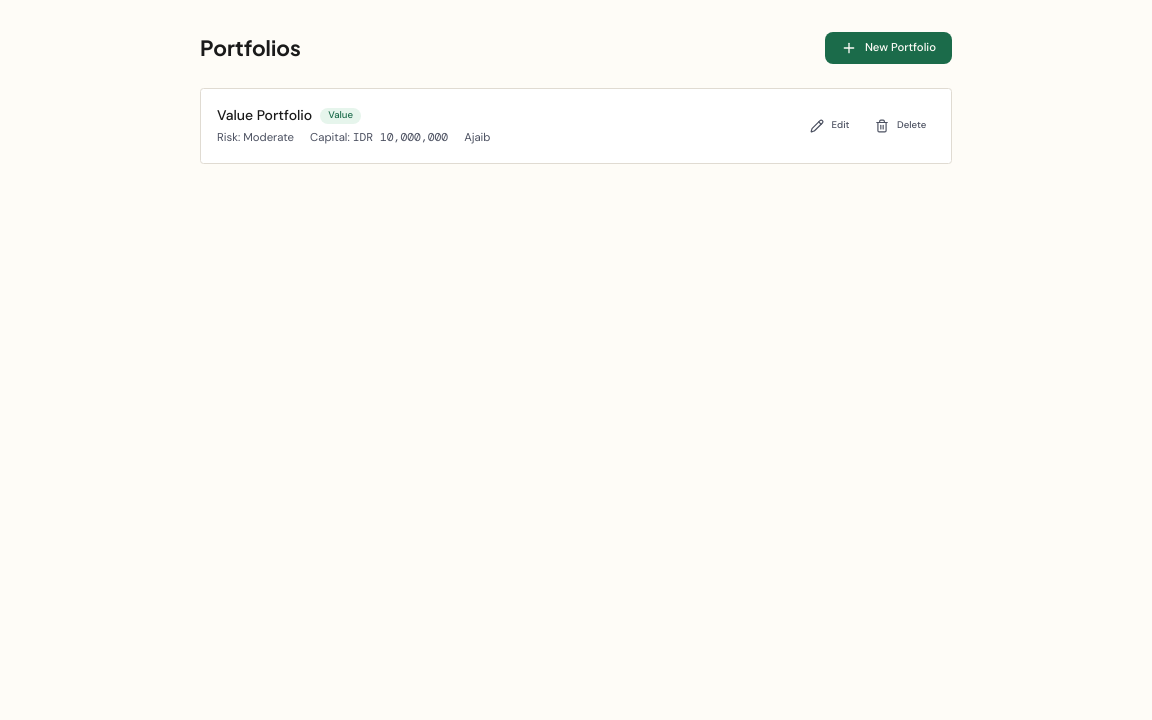
Test: PortfolioPage › State C: Portfolio list (portfolios exist) › shows delete error in dialog
Check: the text "Value Portfolio" is shown, box [217,105,312,126]
Click the button "Delete": (901, 126) [866,115,935,137]
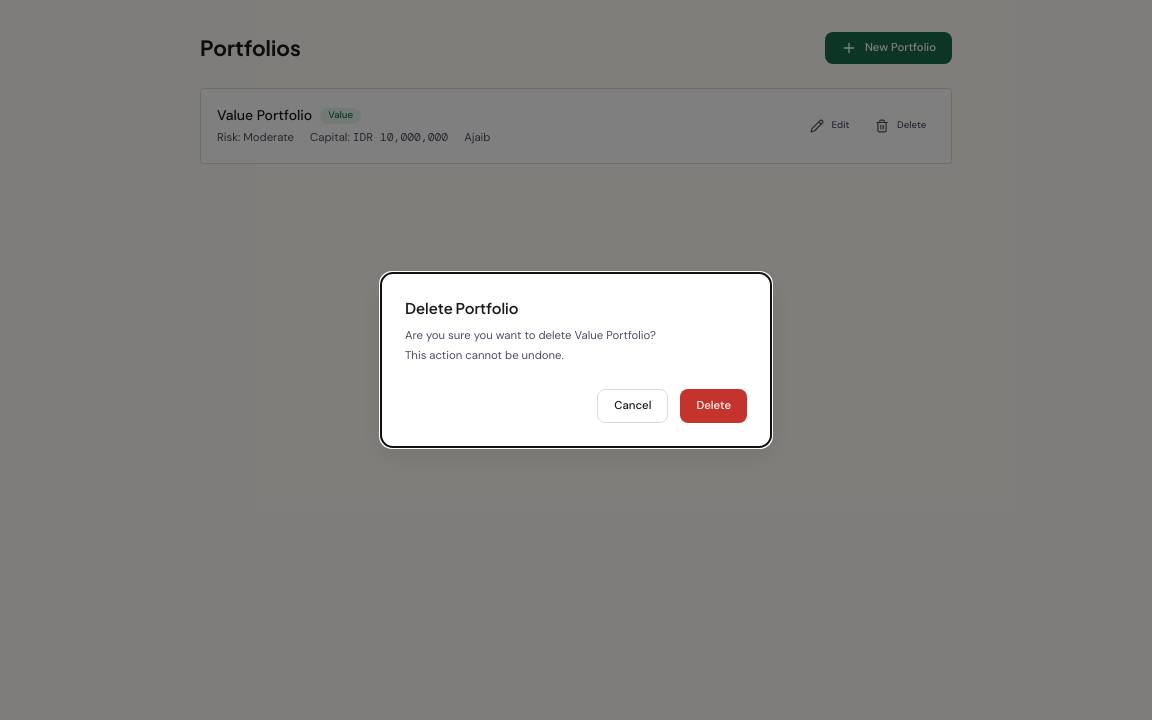
Click the button "Delete": (714, 406) [680,389,747,423]
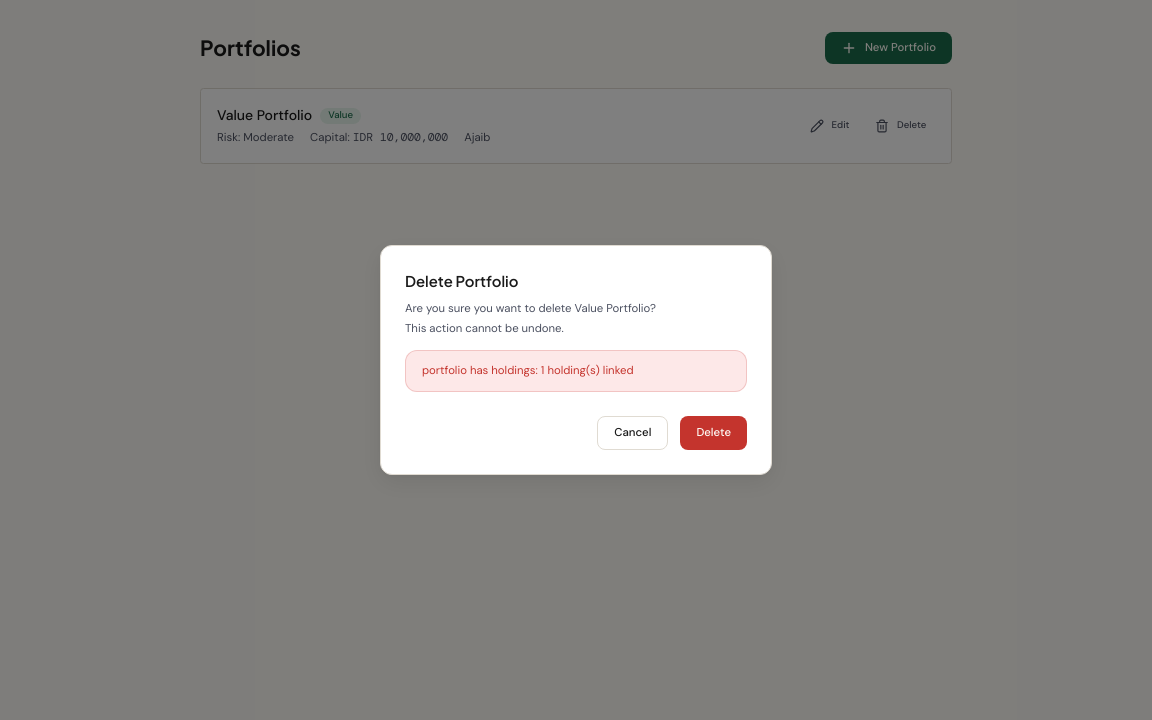
Check: the message shows "portfolio has holdings", box [422,363,634,378]
